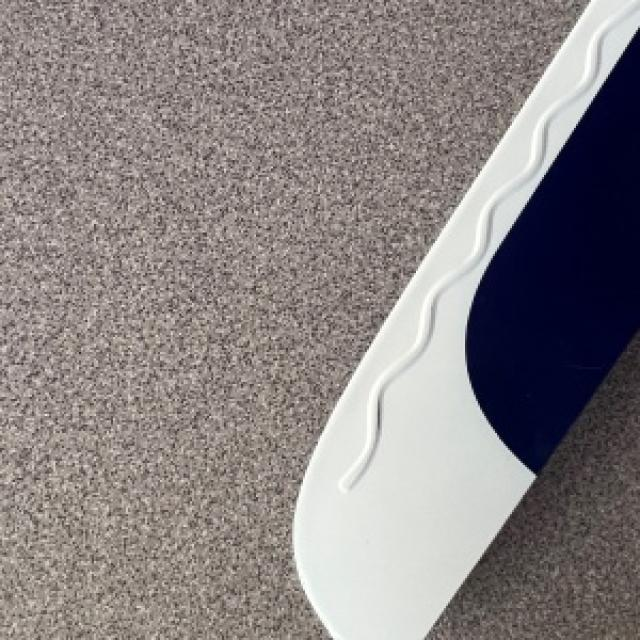healthy: (294, 0, 638, 638)
